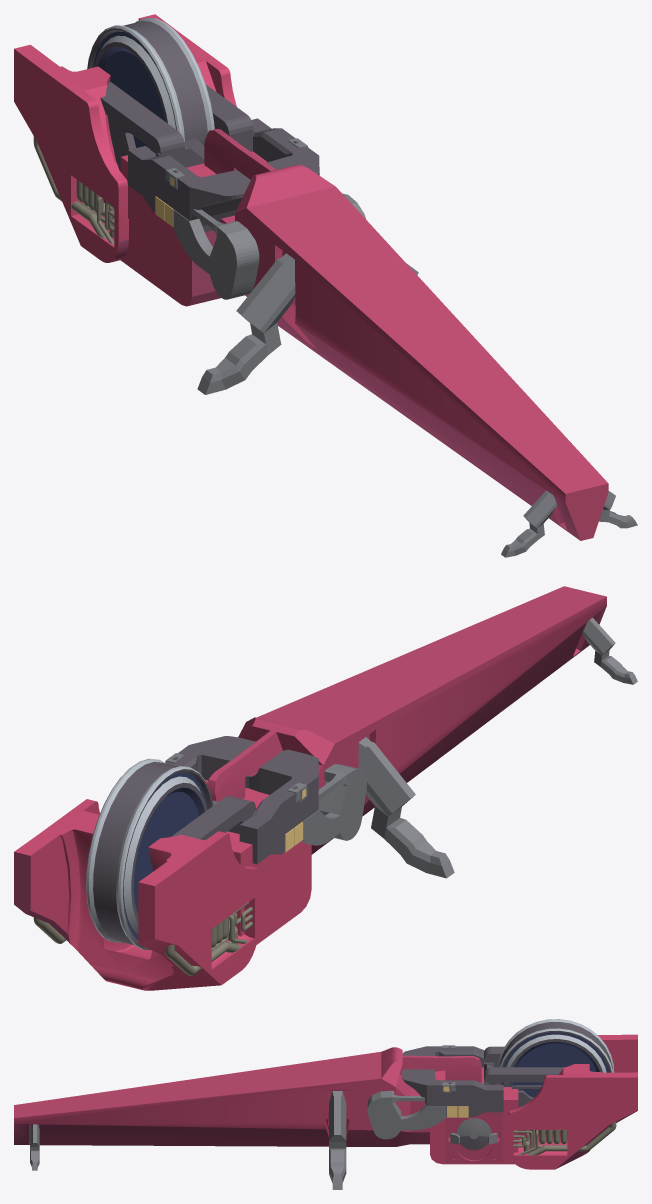
File: spaceship.fbx
3 renders of one model, top to bottom at view 1: azimuth 30°, elevation 25°; view 2: azimuth 150°, elevation 25°; view 3: azimuth 270°, elevation 25°, orthographic. The views are drawn at different scales.
Visible parts, largest first — view 1: Cube.006, Cube.007, Cylinder.004, Cube.021, Cube.005, Cube.009, Cube.014, Cube.016, NurbsPath, Cube.018, Cube.015; view 2: Cube.006, Cube.007, Cylinder.004, Cube.021, Cube.014, Cube.005, Cube.009, NurbsPath, Cube.016, Cube.018; view 3: Cube.006, Cube.007, Cylinder.004, Cube.021, Cube.009, Cube.002, Cube.005, Cube.013, Cube.016, NurbsPath, Cylinder, Cube.010 (+2 smaller).
Boxes of the visible parts, box(x1,y1,x2,y2) form: Cube.006: box(204, 129, 608, 540); Cube.007: box(14, 14, 236, 262); Cylinder.004: box(87, 18, 214, 148); Cube.021: box(128, 118, 319, 232); Cube.005: box(120, 151, 267, 306); Cube.009: box(155, 193, 366, 299); Cube.014: box(197, 253, 295, 394); Cube.016: box(100, 81, 255, 167); NurbsPath: box(33, 136, 114, 244); Cube.018: box(501, 490, 557, 557); Cube.015: box(107, 116, 148, 171); Cube.006: box(207, 586, 606, 854); Cube.007: box(14, 799, 259, 990); Cylinder.004: box(86, 758, 213, 950); Cube.021: box(165, 736, 318, 864); Cube.014: box(358, 737, 454, 878); Cube.005: box(205, 780, 311, 944); Cube.009: box(285, 764, 366, 852); NurbsPath: box(33, 902, 252, 975); Cube.016: box(82, 795, 257, 866); Cube.018: box(582, 618, 637, 684); Cube.006: box(14, 1047, 481, 1146); Cube.007: box(508, 1034, 637, 1169); Cylinder.004: box(497, 1019, 614, 1107); Cube.021: box(402, 1045, 503, 1116); Cube.009: box(367, 1090, 468, 1139); Cube.002: box(445, 1112, 502, 1162); Cube.005: box(430, 1067, 518, 1164); Cube.013: box(329, 1091, 346, 1189); Cube.016: box(484, 1046, 563, 1084); NurbsPath: box(513, 1121, 616, 1155); Cylinder: box(456, 1118, 491, 1138); Cube.010: box(30, 1124, 39, 1170).
Size of the model in its own units: 392 by 303 by 1346.
